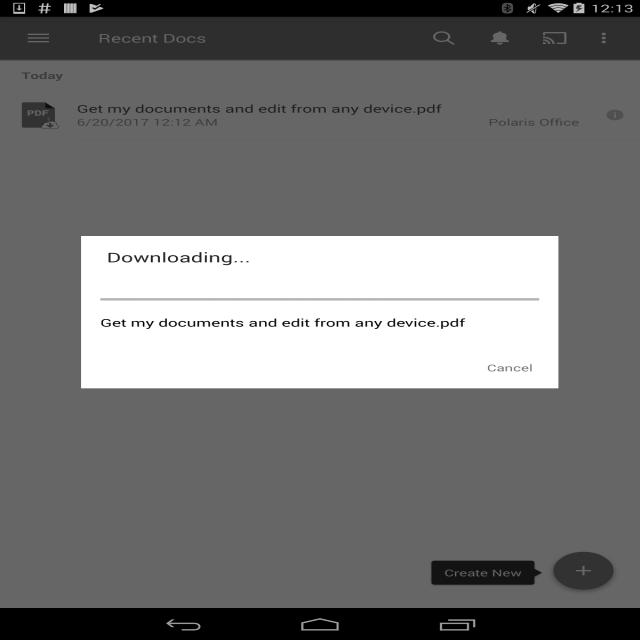CheckBox: (584, 59, 618, 80)
ImageButton: (571, 16, 640, 59), (503, 17, 572, 59), (19, 17, 45, 59)
ImageView: (0, 0, 640, 640), (10, 86, 44, 107), (358, 86, 392, 107), (591, 86, 625, 107), (494, 86, 528, 107), (220, 86, 253, 107), (24, 75, 40, 81)
TextView: (79, 17, 503, 59), (6, 80, 257, 106), (45, 90, 198, 103), (253, 90, 337, 103), (393, 90, 472, 103), (17, 63, 87, 76), (198, 64, 272, 76), (528, 90, 570, 103), (123, 64, 164, 76), (625, 90, 640, 103)
